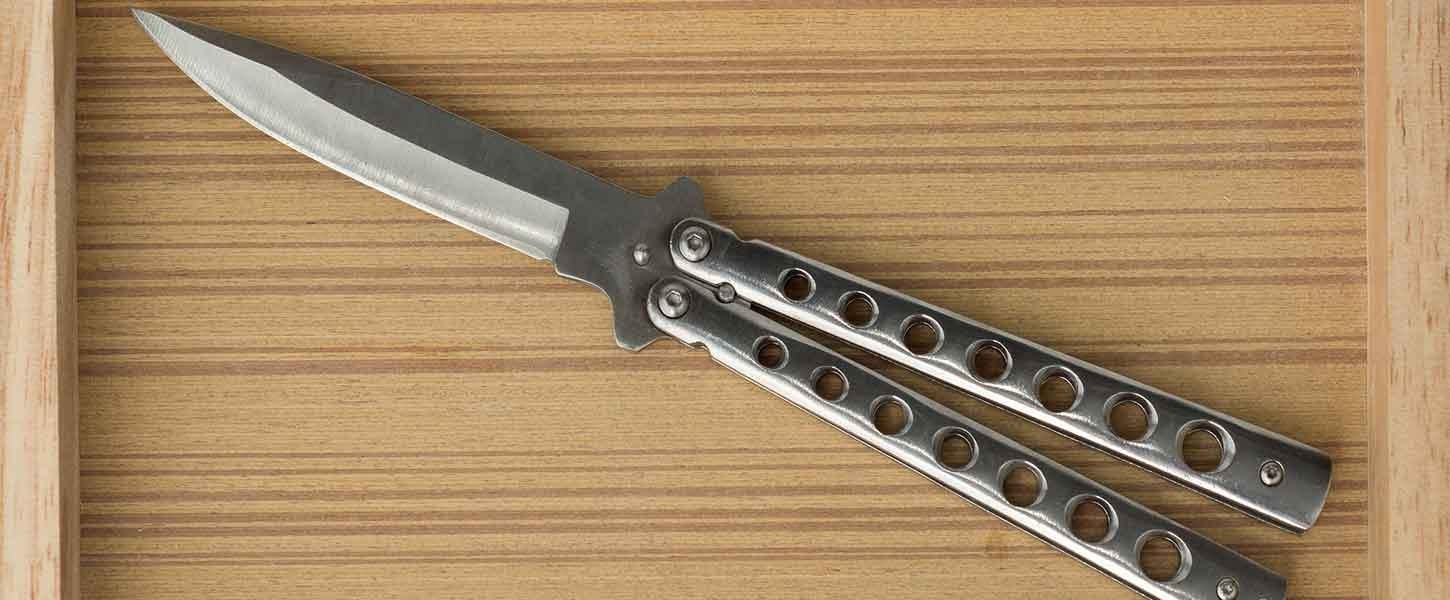knife: (127, 6, 1352, 600)
